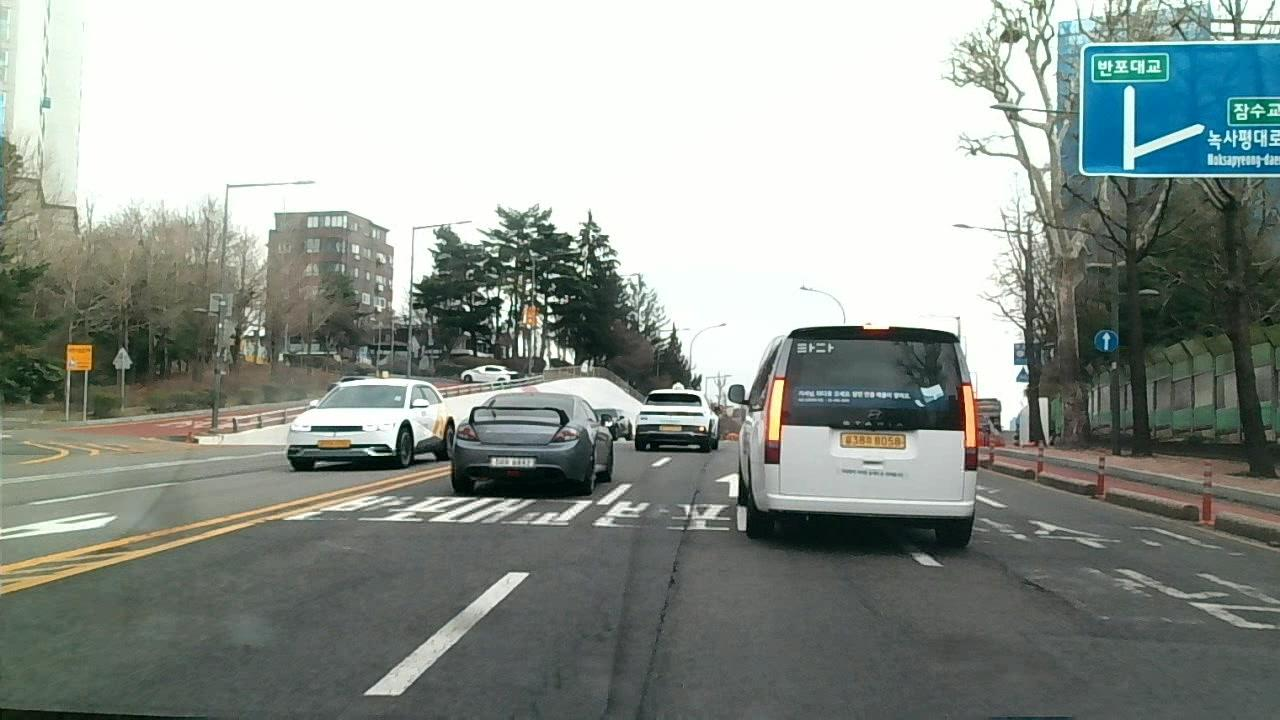banner: (631, 566, 687, 720), (987, 554, 1077, 614), (671, 482, 699, 566)
